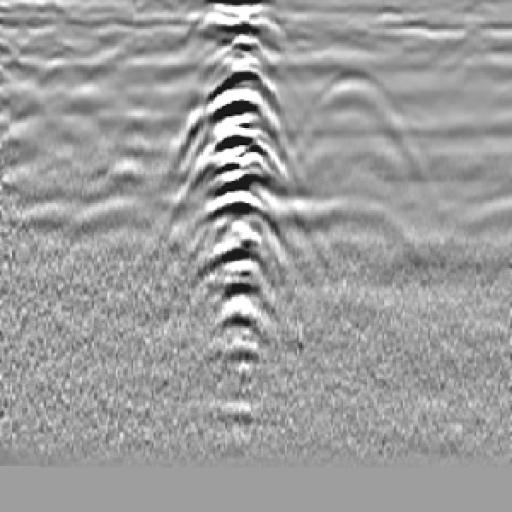metalic: (144, 30, 324, 392)
nonmetalic: (278, 53, 435, 217)
